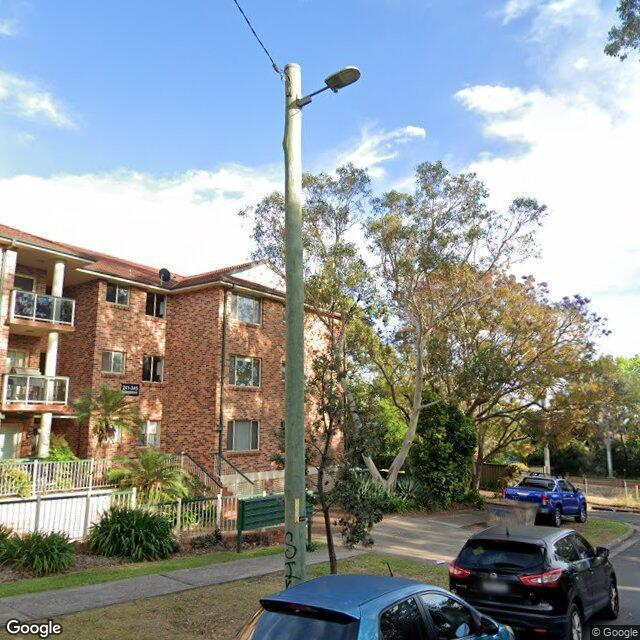streetlight: (296, 66, 362, 108)
timber-pole: (283, 63, 307, 589)
